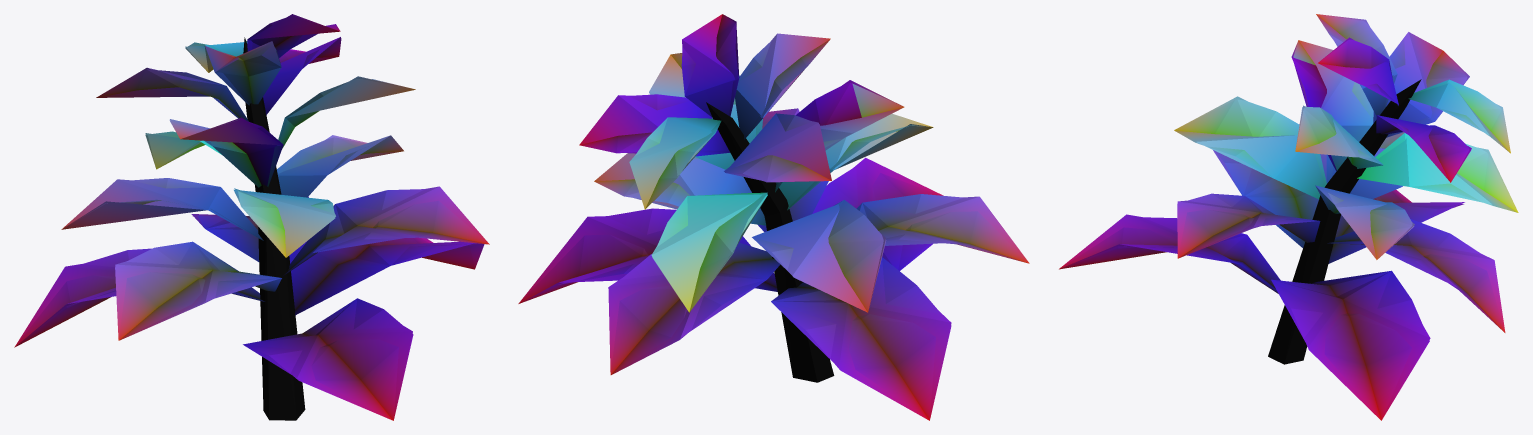
File: bigleafplant_01_tall_bend.dae
3 views of the same model, side by side, from view 1: azimuth 30°, elevation 25°; view 2: azimuth 150°, elevation 25°; view 3: azimuth 270°, elevation 25° (orthographic). The views are drawn at different scales.
Visible parts, largest first — view 1: bigleafb224, bigleafb64; view 2: bigleafb224, bigleafb64; view 3: bigleafb224, bigleafb64.
Part boxes in pixels (x1,y1,x2,y2): bigleafb224: (14, 15, 489, 420); bigleafb64: (15, 14, 488, 420); bigleafb224: (518, 14, 1029, 420); bigleafb64: (519, 14, 1028, 419); bigleafb224: (1059, 14, 1518, 420); bigleafb64: (1059, 14, 1517, 419).
Size of what is drawn, in the model's own units: 2.31 by 2.28 by 1.85.
